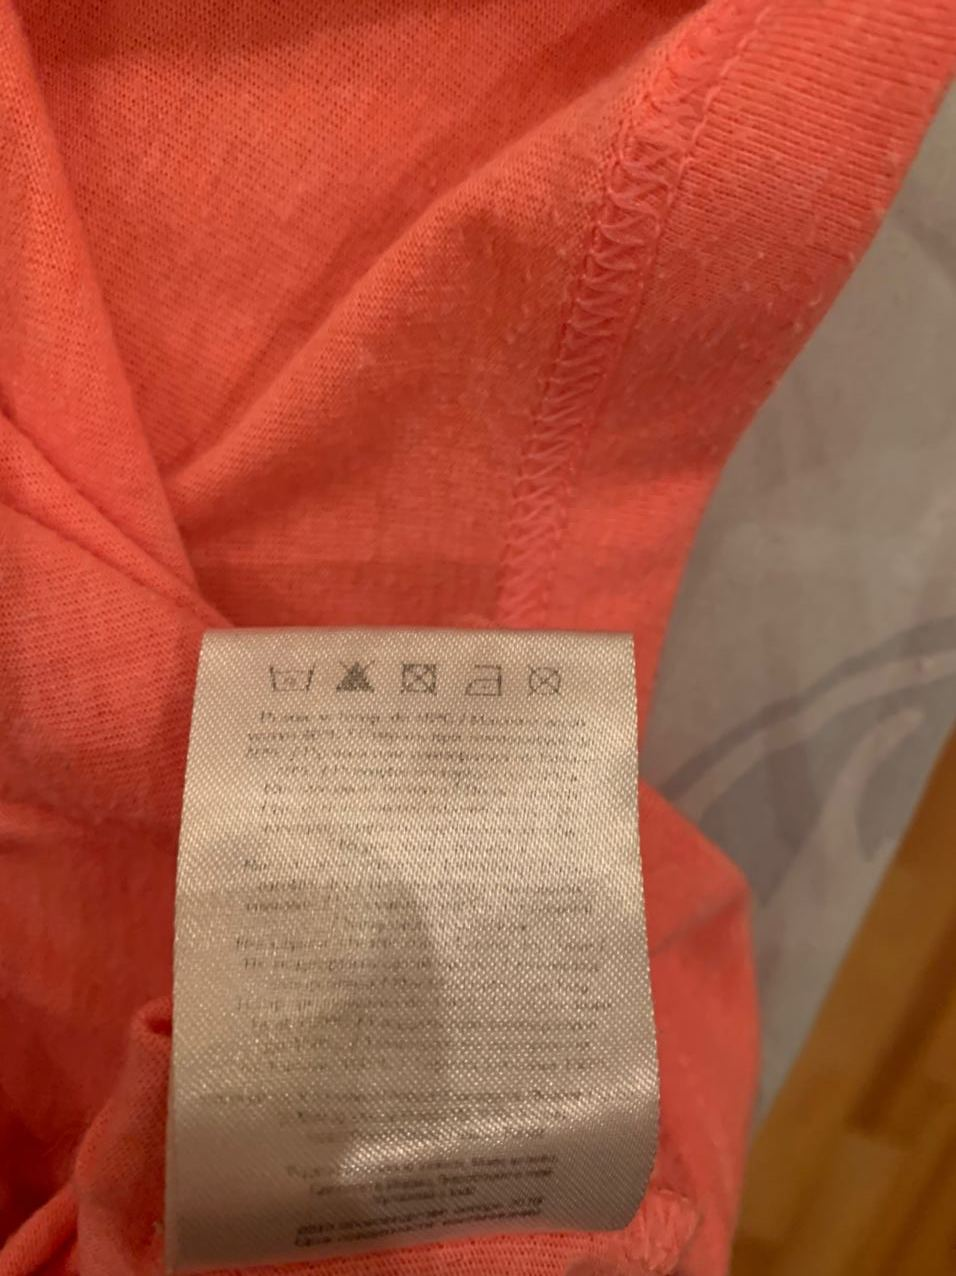do_not_bleach: (329, 653, 382, 697)
do_not_dry_clean: (523, 658, 567, 701)
do_not_tumble_drying: (395, 656, 440, 699)
ironing_at_low_temp: (463, 656, 508, 702)
